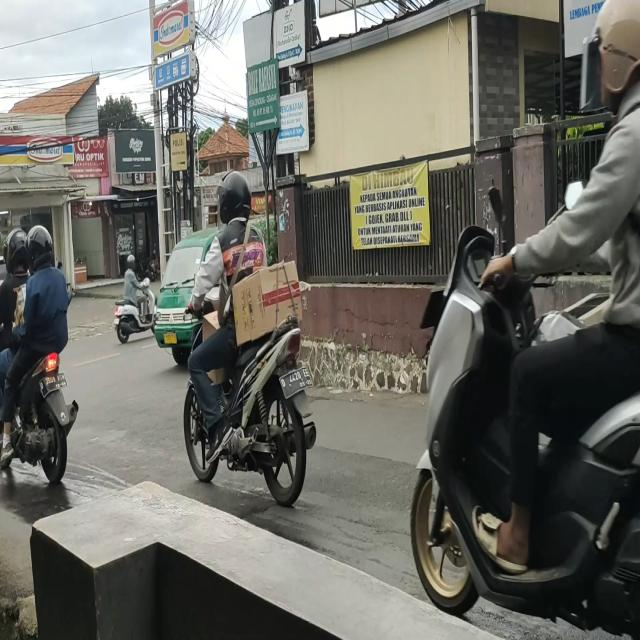helmet: (595, 0, 640, 88), (216, 174, 248, 226), (31, 225, 56, 275), (4, 230, 32, 274), (126, 256, 132, 275)
